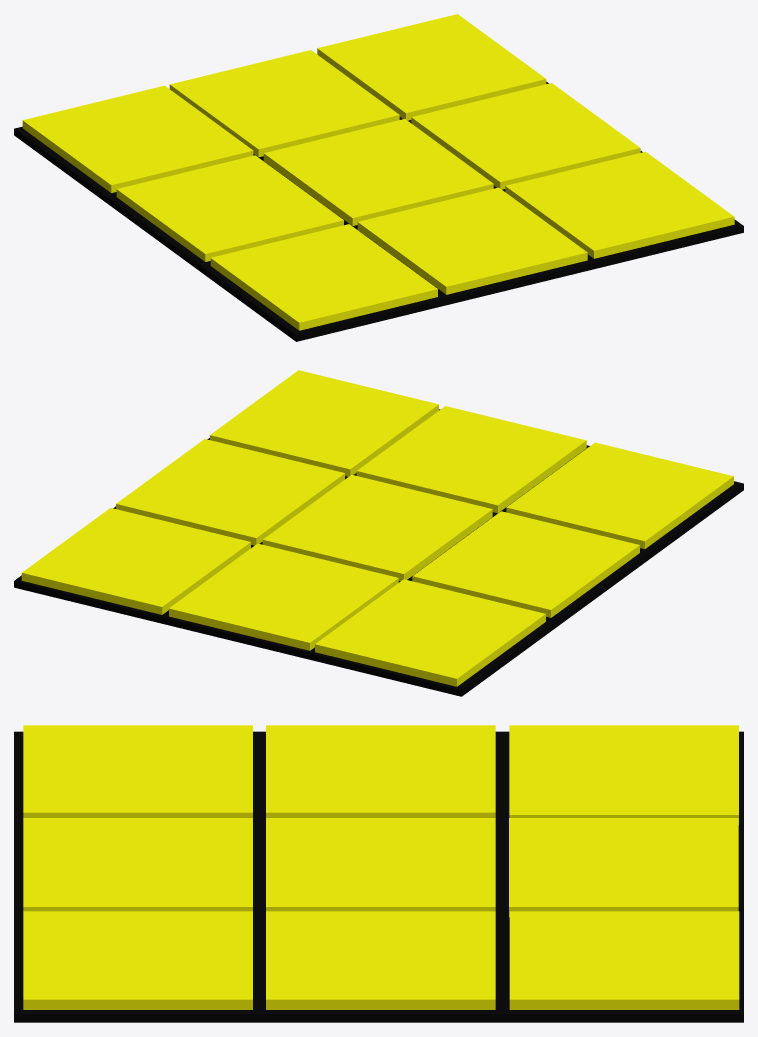
The model's file is roof 1.fbx.
3 renders of one model, top to bottom at view 1: azimuth 30°, elevation 25°; view 2: azimuth 150°, elevation 25°; view 3: azimuth 270°, elevation 25°, orthographic. The views are drawn at different scales.
Visible parts, largest first — view 1: pPlane14, pPlane1; view 2: pPlane14, pPlane1; view 3: pPlane14, pPlane1.
Boxes of the visible parts, x1,y1,x2,y2 form: pPlane14: (22,14,734,330); pPlane1: (14,81,743,341); pPlane14: (21,370,733,686); pPlane1: (14,409,743,696); pPlane14: (23,725,739,1009); pPlane1: (14,731,743,1022).
Size of the model in its own units: 6.75 by 0.2148 by 7.38.
